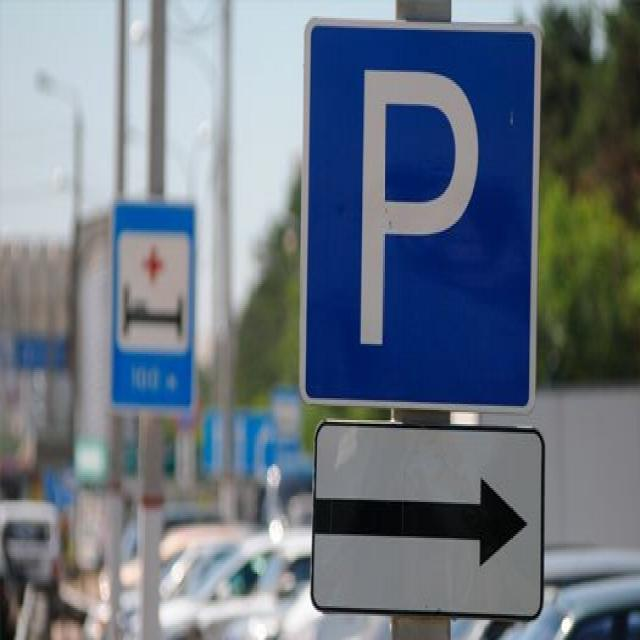parking: (299, 12, 538, 416)
